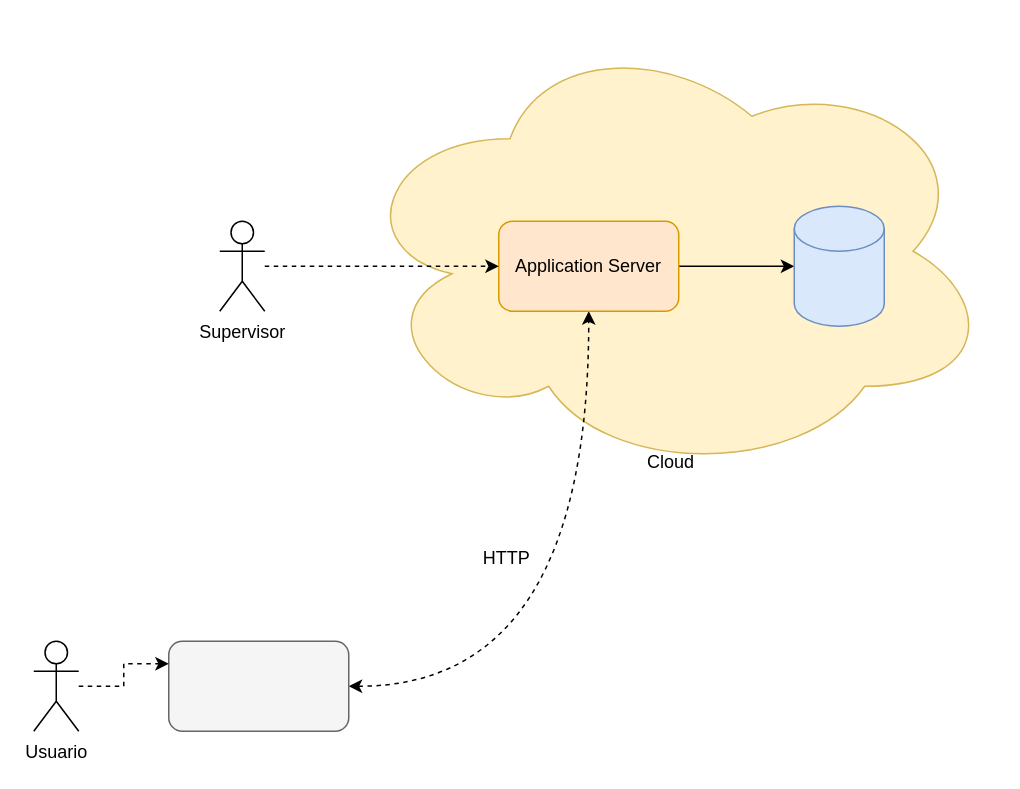
This 1020x789 diagram has some shape labels left out. The shapes that lost their labels are listed below. From the top down, each one's box as (x1, y1, x2, y2) in pixels, then its label:
(793, 205, 884, 326): Database
(167, 640, 349, 731): Botón antipánico (hardware)
